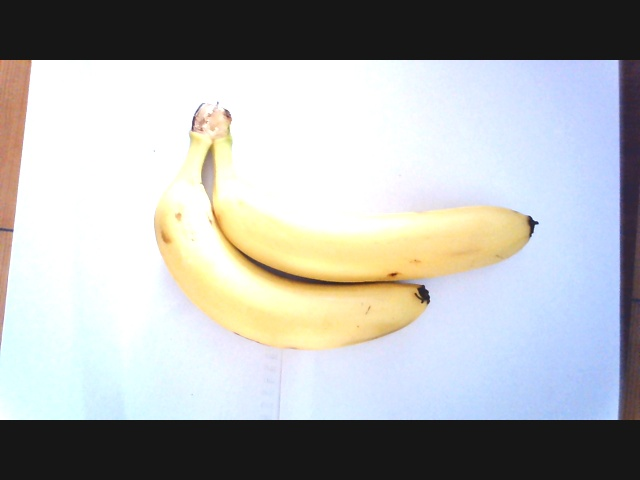banana: (150, 112, 529, 351)
